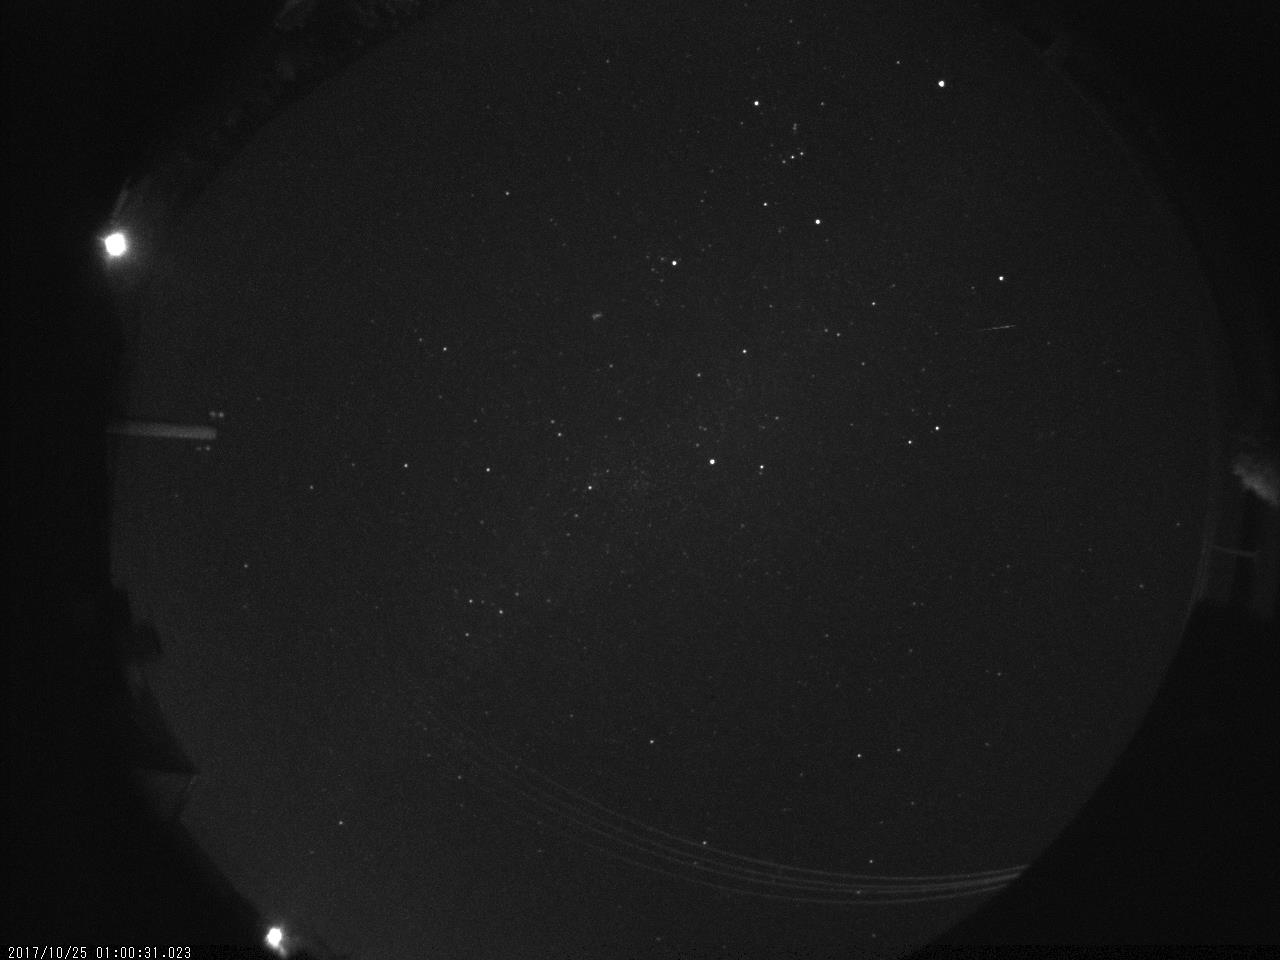meteor: (957, 314, 1025, 337)
